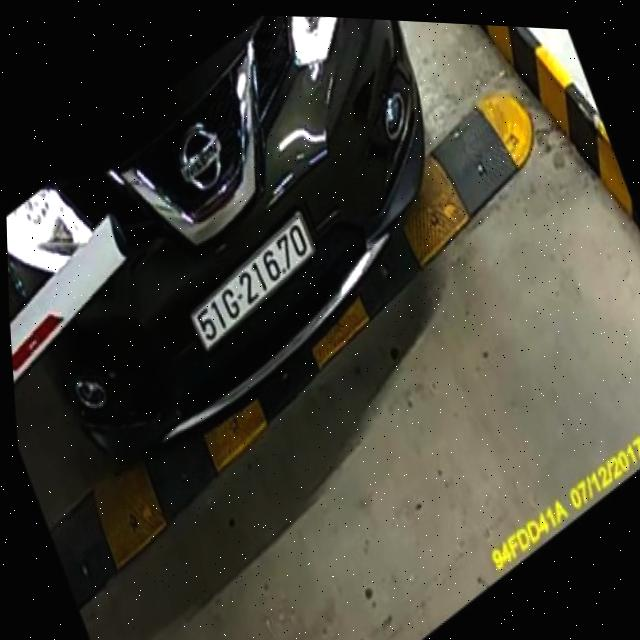car: (0, 0, 454, 479)
plate: (184, 205, 326, 360)
